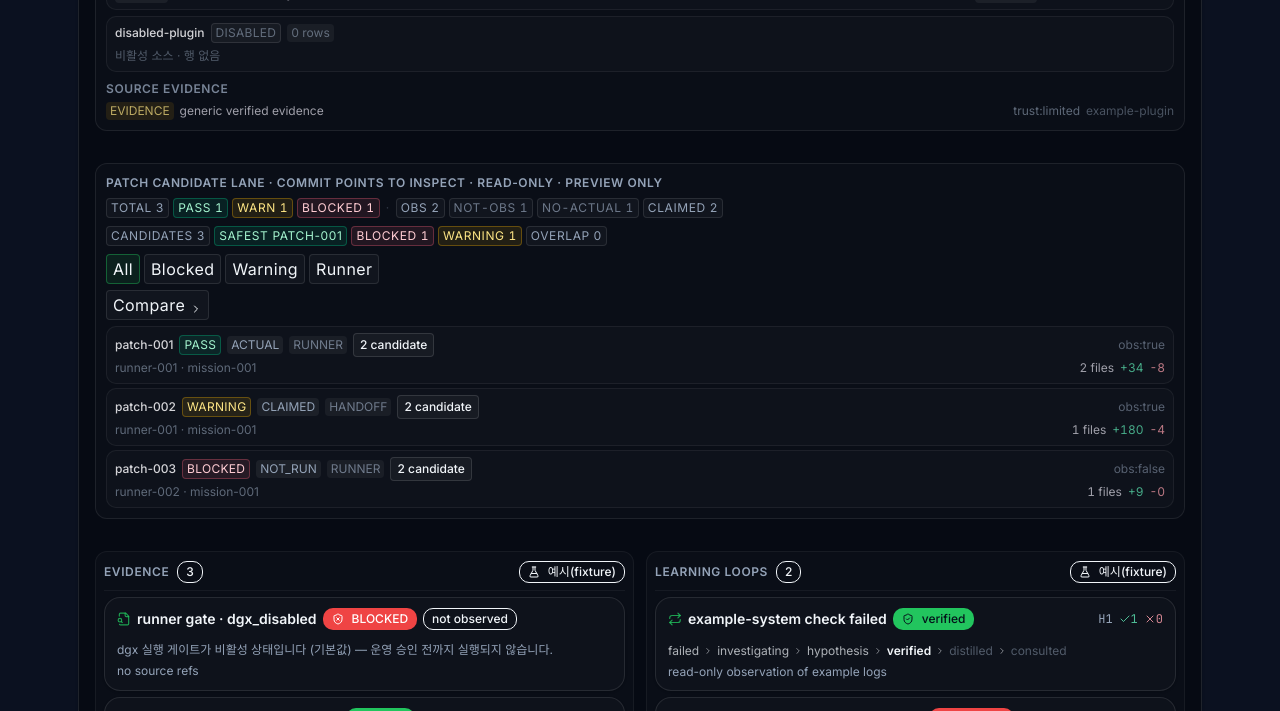
INB-B — inbox detail drawer v2 (candidate-list wiring) › opening a work-item candidate closes an open source detail drawer (U8 dialog 동시 1)
The image size is (1280, 711).
Later steps or results of the test are not shown.
(page scrolled)
Click the button with test id "patch-candidate-patch-001".
click(144, 344)  # box x1=106 y1=326 x2=1174 y2=384
(page scrolled)
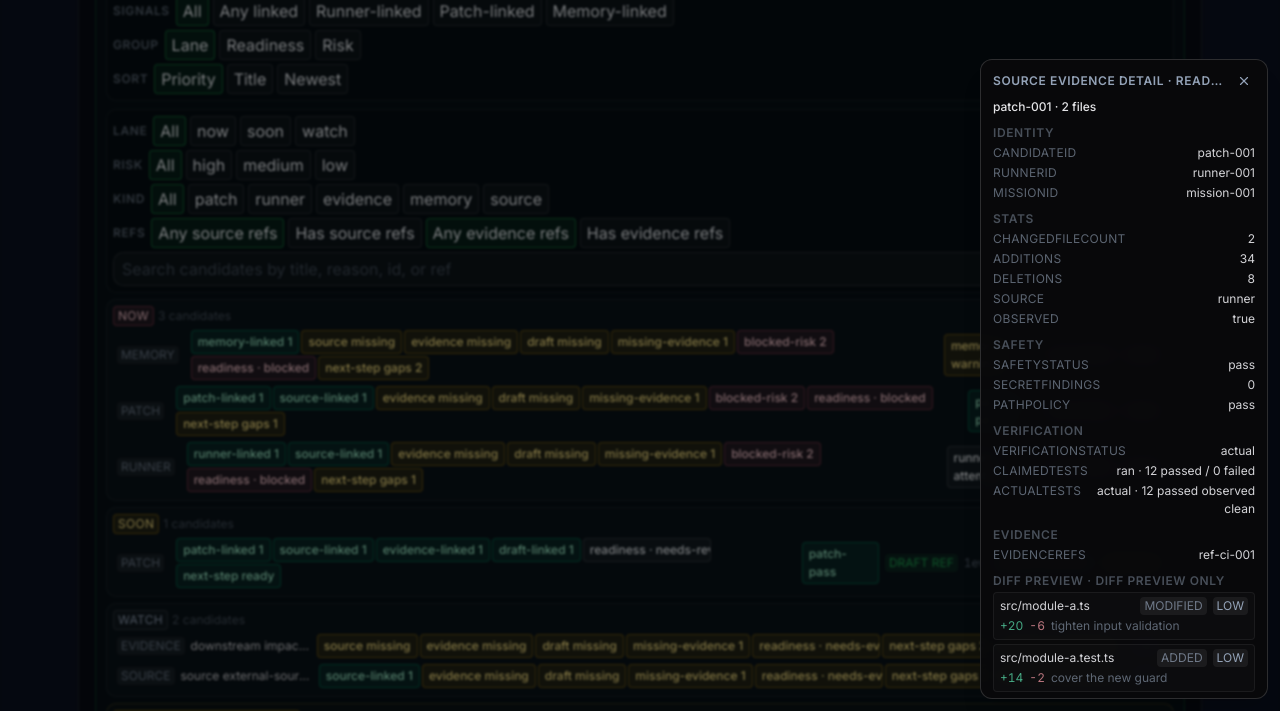
Now the dialog with test id "source-detail-drawer" is shown, box x1=980 y1=59 x2=1268 y2=699
